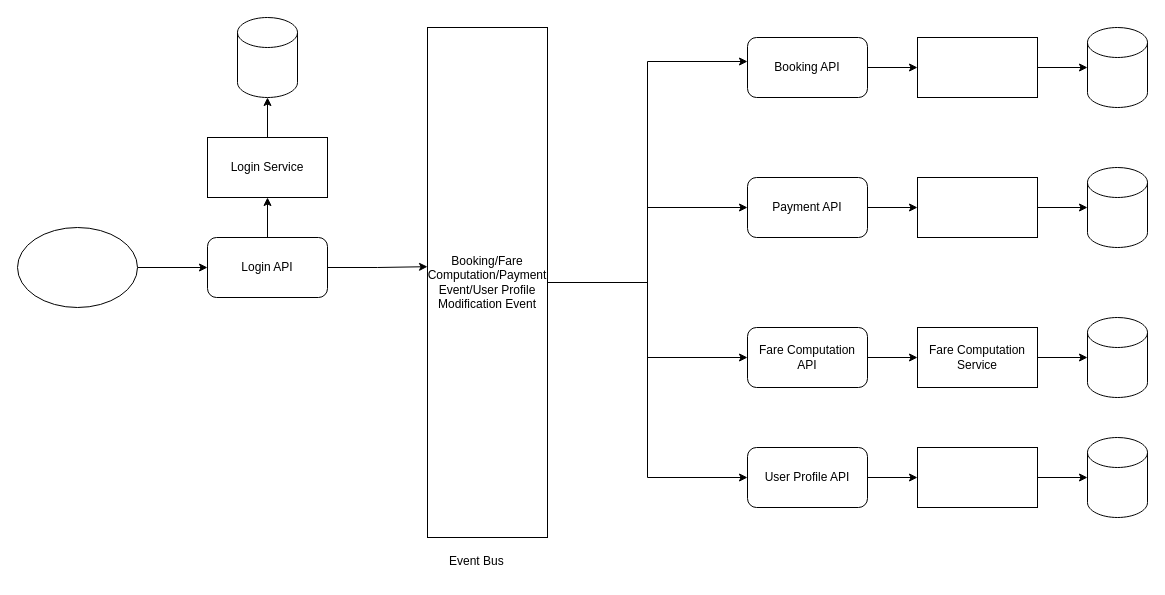
The diagram is 1165 pixels wide and 595 high, and some of its shapes have lost their labels. The shapes that lost their labels are listed below. From the top down, each one's centre as x and y in pixels, then its label:
the point at 977,67: Booking Service
the point at 977,207: Payment Service
the point at 77,267: Login Event
the point at 977,477: User Profile Service
